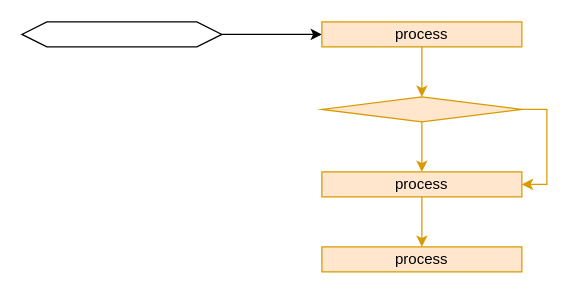
Image size: 579x294. Some labels were removed from this diagram. Here are the shapes that lost their labels. From the top down, the centre of each, then its label:
the point at 121,34: 요청
the point at 421,109: 조건
